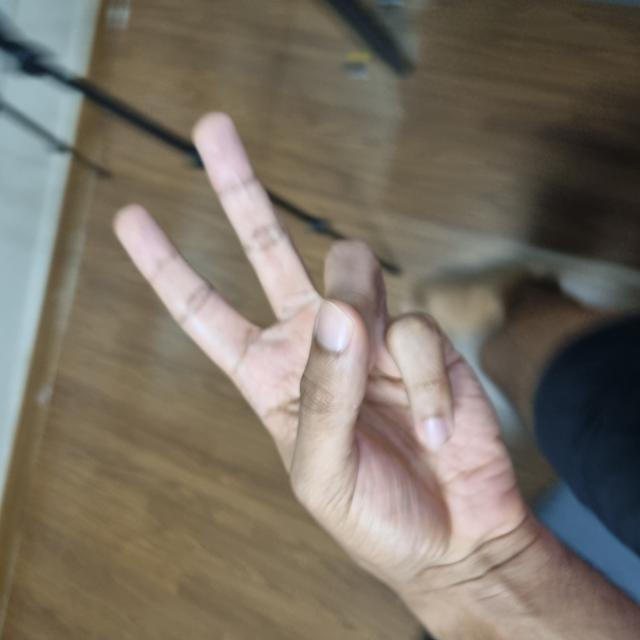Scissors: (65, 116, 524, 523)
